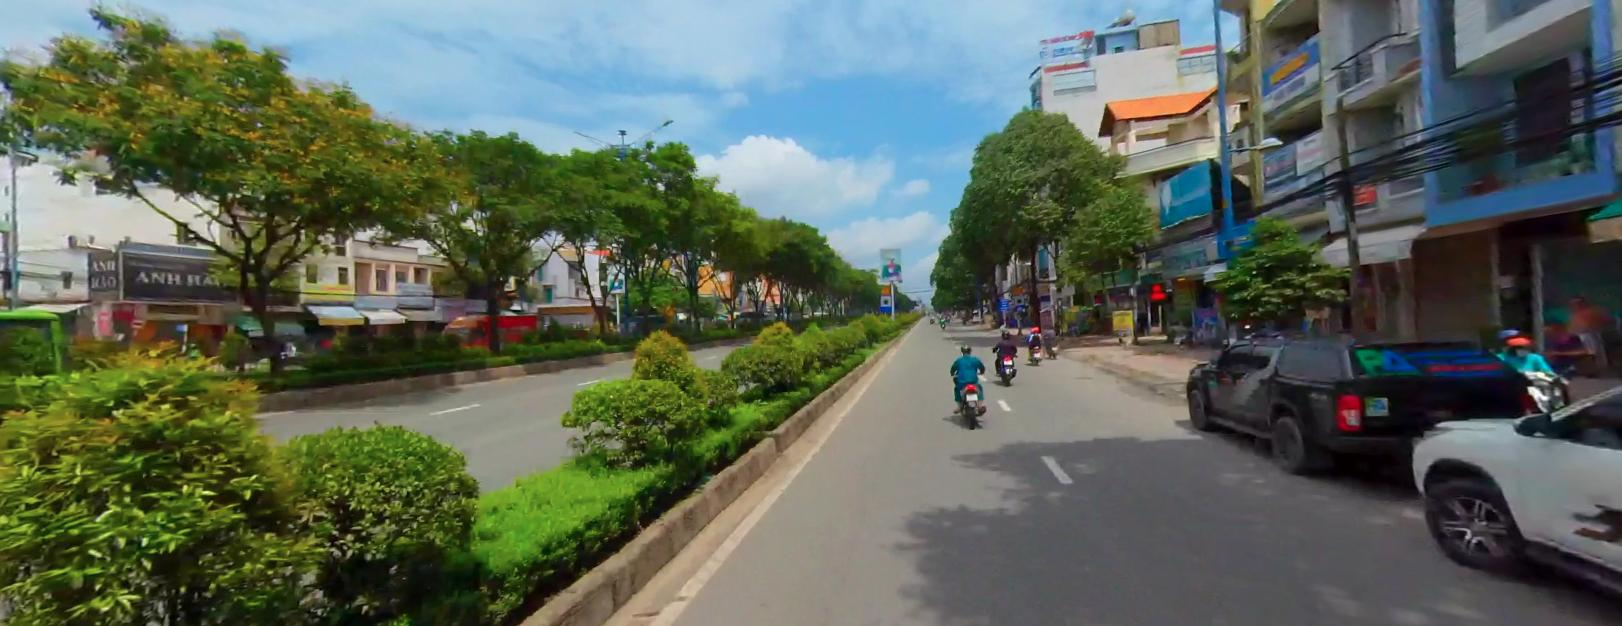Nguy hiem: (1011, 284, 1022, 293), (880, 284, 890, 292)
